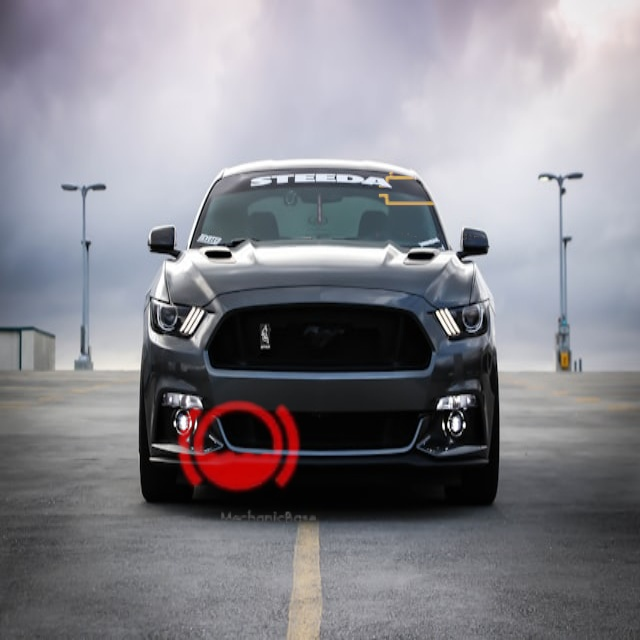symbol: (153, 362, 323, 532), (345, 107, 485, 247)
